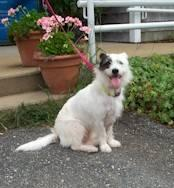dog: (16, 53, 134, 153)
